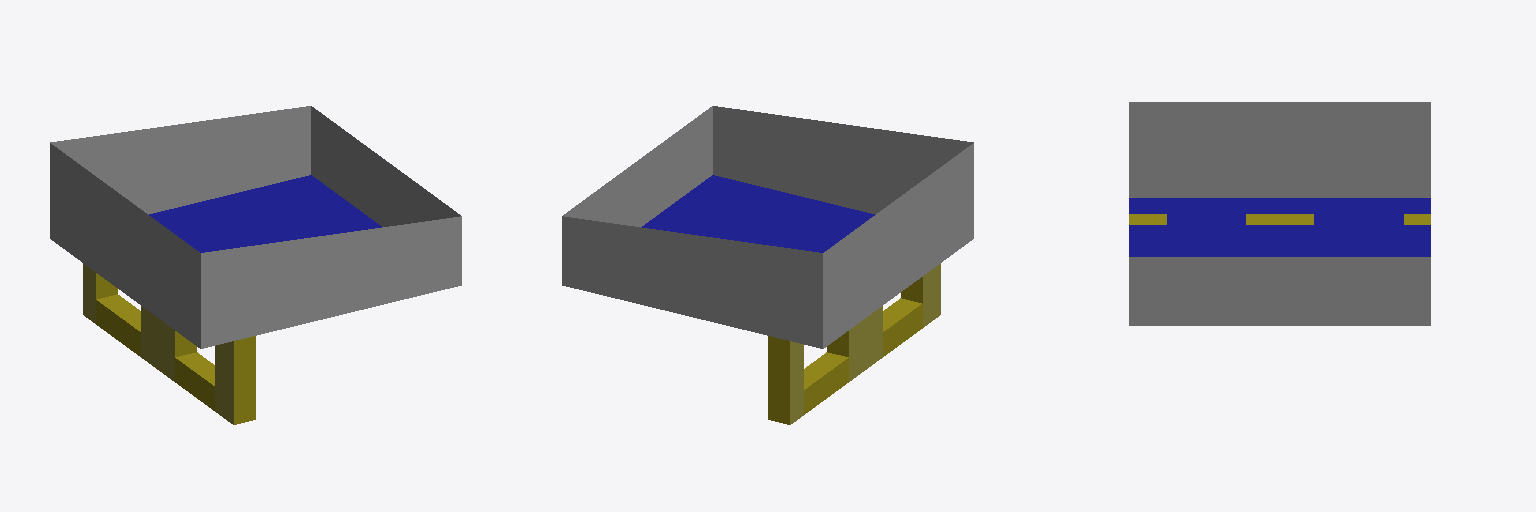
File: BUILD00.obj
3 views of the same model, side by side, from view 1: azimuth 30°, elevation 25°; view 2: azimuth 150°, elevation 25°; view 3: azimuth 270°, elevation 25° (orthographic).
Visible parts, largest first — view 1: BUILD00_Cube; view 2: BUILD00_Cube; view 3: BUILD00_Cube.
Boxes of the visible parts, <box> form: BUILD00_Cube: <box>50,106,461,424</box>; BUILD00_Cube: <box>562,106,973,424</box>; BUILD00_Cube: <box>1129,102,1430,325</box>.
Size of the model in its own units: 200 by 132 by 200.